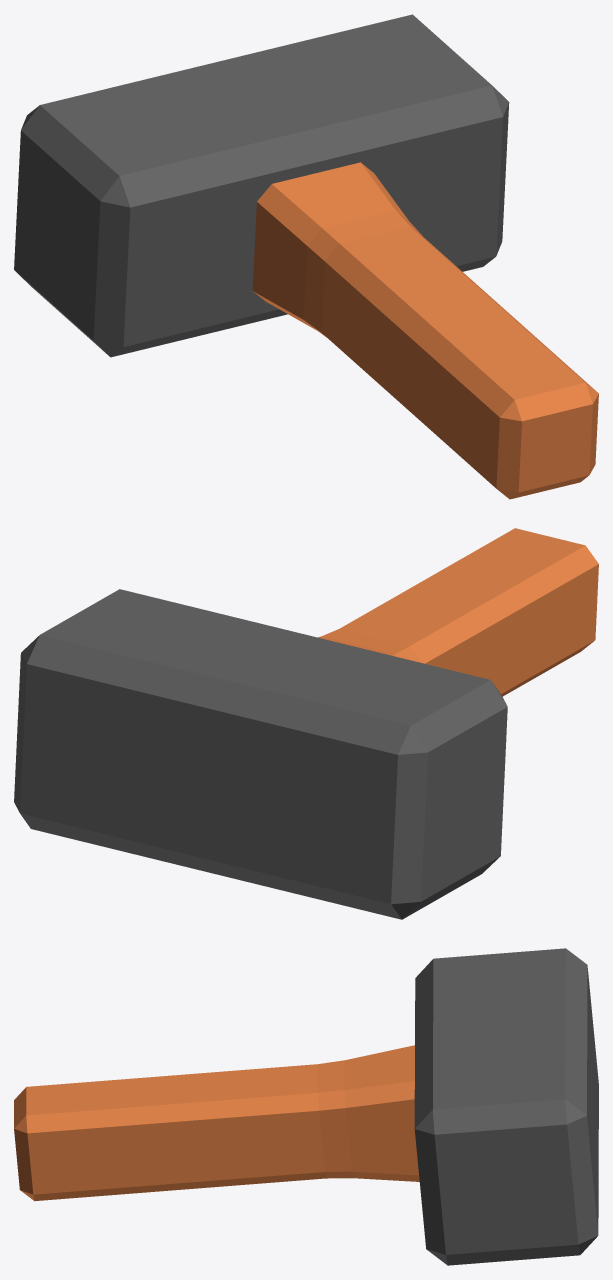
The model's file is hammer.fbx.
3 views of the same model, one above another, from view 1: azimuth 30°, elevation 25°; view 2: azimuth 150°, elevation 25°; view 3: azimuth 270°, elevation 25° (orthographic). The views are drawn at different scales.
Parts seen in each view (by area): view 1: Hammer; view 2: Hammer; view 3: Hammer.
Boxes of the visible parts, x1,y1,x2,y2 form: Hammer: (14, 14, 598, 499); Hammer: (14, 528, 598, 919); Hammer: (14, 948, 598, 1265).
Bounding box in the file's own units: 25 × 37.33 × 11.73.
